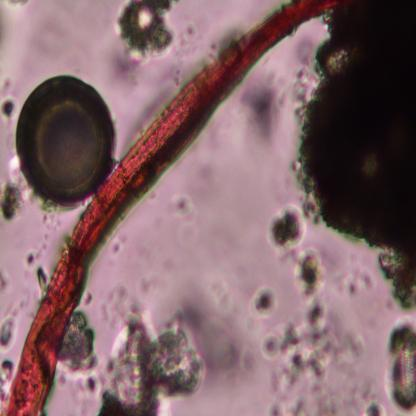Background material: (297, 0, 416, 312), (254, 246, 340, 414), (104, 307, 203, 415), (189, 290, 256, 376), (117, 1, 178, 57), (60, 310, 100, 376), (241, 75, 279, 142), (268, 205, 308, 251), (344, 267, 375, 295), (169, 191, 197, 222), (251, 285, 279, 316), (0, 182, 23, 219), (0, 318, 19, 350), (0, 359, 15, 392), (36, 266, 51, 298), (361, 398, 386, 414), (0, 269, 13, 297), (3, 99, 17, 115), (25, 250, 38, 267)
Cotton: (3, 0, 340, 414)
Diatom: (16, 72, 114, 204), (384, 318, 416, 410)
